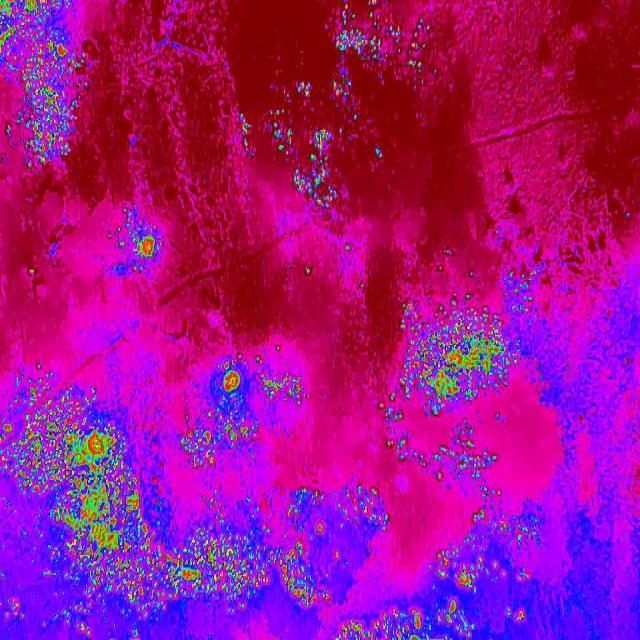fire: (0, 350, 313, 640), (374, 266, 540, 410), (0, 0, 97, 174), (256, 78, 384, 208), (429, 501, 542, 598), (324, 10, 450, 96), (383, 408, 499, 501), (312, 488, 389, 614), (336, 599, 478, 640), (102, 209, 168, 282)
